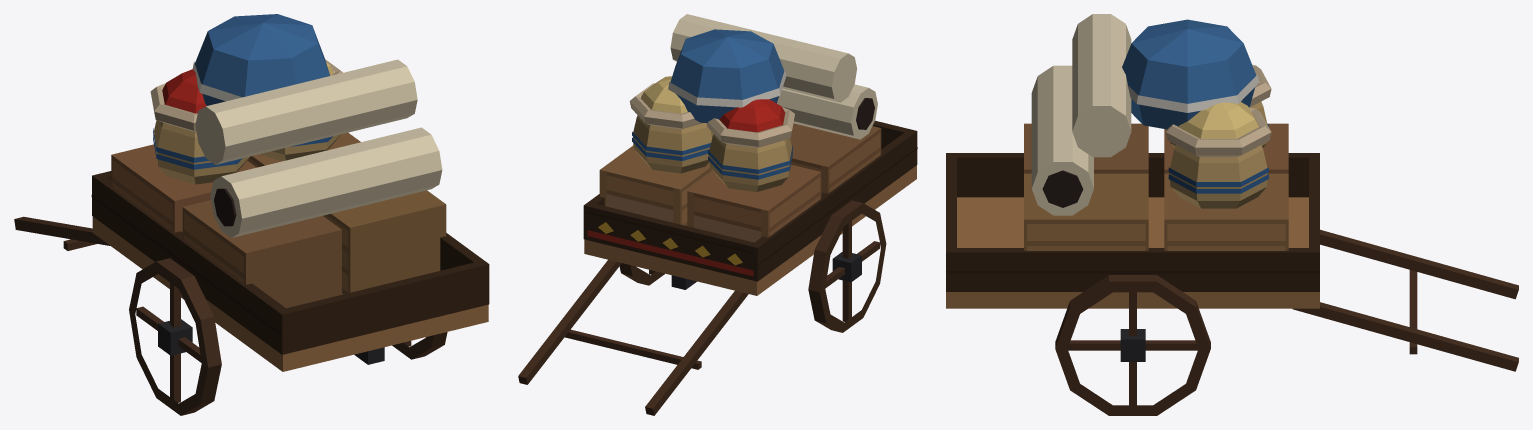
Rendered from cart_handcart.glb.
The picture shows the model from 3 angles, left to right: view 1: azimuth 30°, elevation 25°; view 2: azimuth 150°, elevation 25°; view 3: azimuth 270°, elevation 25°; orthographic projection. The views are drawn at different scales.
Parts seen in each view (by area): view 1: cart_handcart; view 2: cart_handcart; view 3: cart_handcart.
Part boxes in pixels (box(x1,y1,x2,y2)): cart_handcart: box(14, 14, 489, 415); cart_handcart: box(518, 14, 917, 415); cart_handcart: box(946, 14, 1518, 415).
Bounding box in the file's own units: 1.84 × 2.33 × 3.68.
